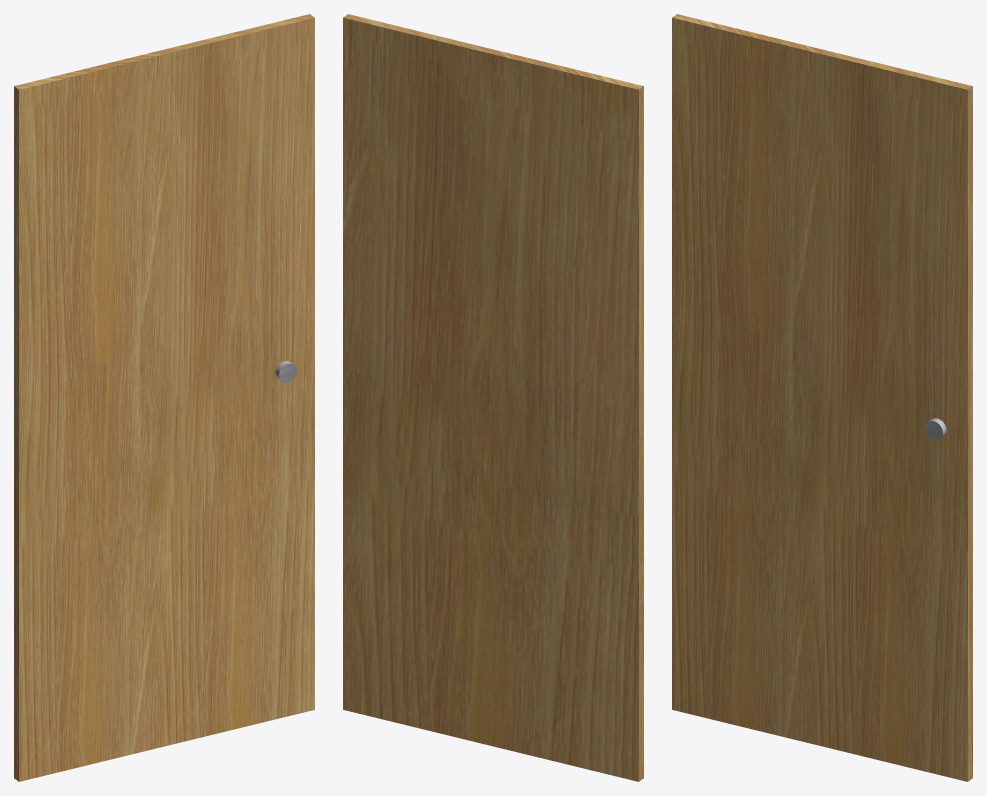
File: closet_right_door.dae
The picture shows the model from 3 angles, left to right: view 1: azimuth 30°, elevation 25°; view 2: azimuth 150°, elevation 25°; view 3: azimuth 330°, elevation 25°; orthographic projection.
Visible parts, largest first — view 1: group_1; view 2: group_1; view 3: group_1.
Boxes of the visible parts, x1,y1,x2,y2 form: group_1: (14, 14, 314, 781); group_1: (343, 14, 643, 781); group_1: (672, 14, 972, 781).
Bounding box in the file's own units: 33.39 × 1.69 × 74.66.
2 materials, 2 textured.
